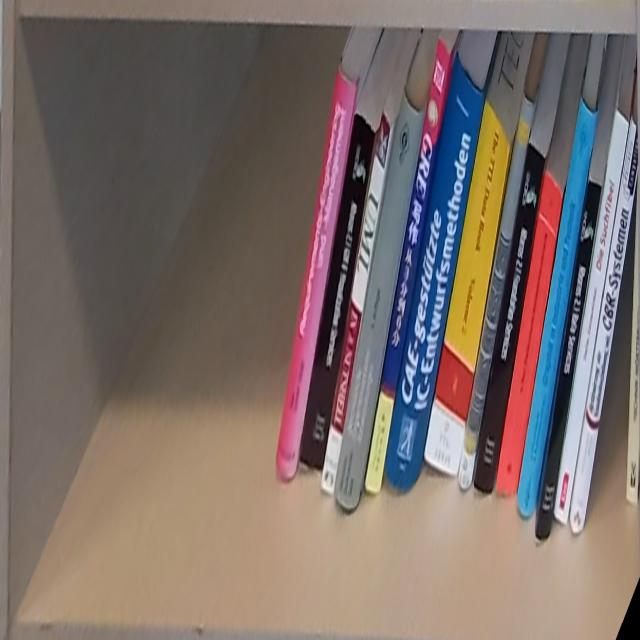Book Spine: (385, 54, 484, 491), (365, 38, 451, 497), (335, 89, 428, 511), (275, 66, 358, 481), (518, 95, 599, 518), (424, 100, 511, 480), (554, 110, 629, 527), (457, 92, 535, 489), (569, 118, 638, 535), (320, 112, 391, 499), (300, 114, 376, 474), (474, 143, 547, 496), (537, 181, 603, 541), (497, 173, 563, 496)
